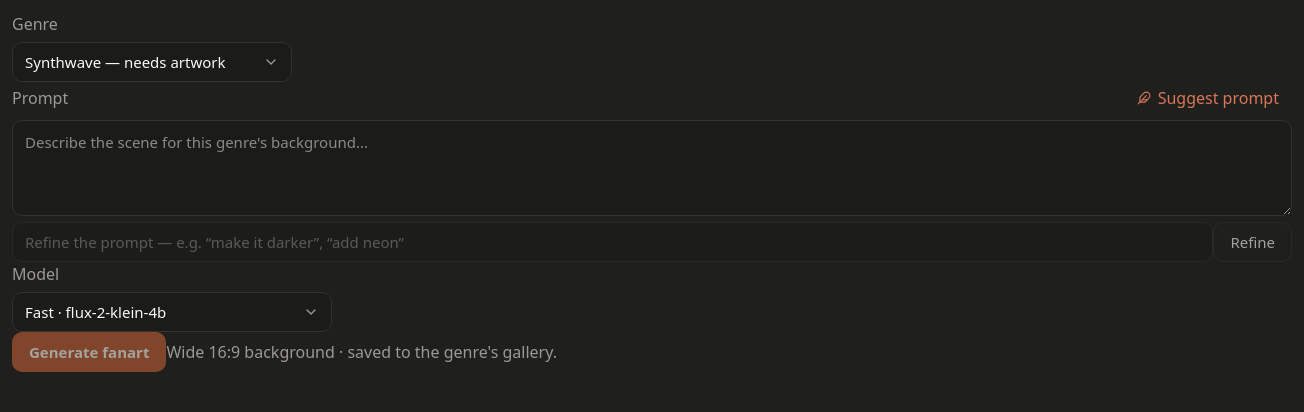
Test: GenreFanartMode generation › when the job fails without a reason, then a generic message stands in
Type "neon skyline" into the text box named "Fanart prompt" at (652, 168), box [12, 120, 1292, 216]
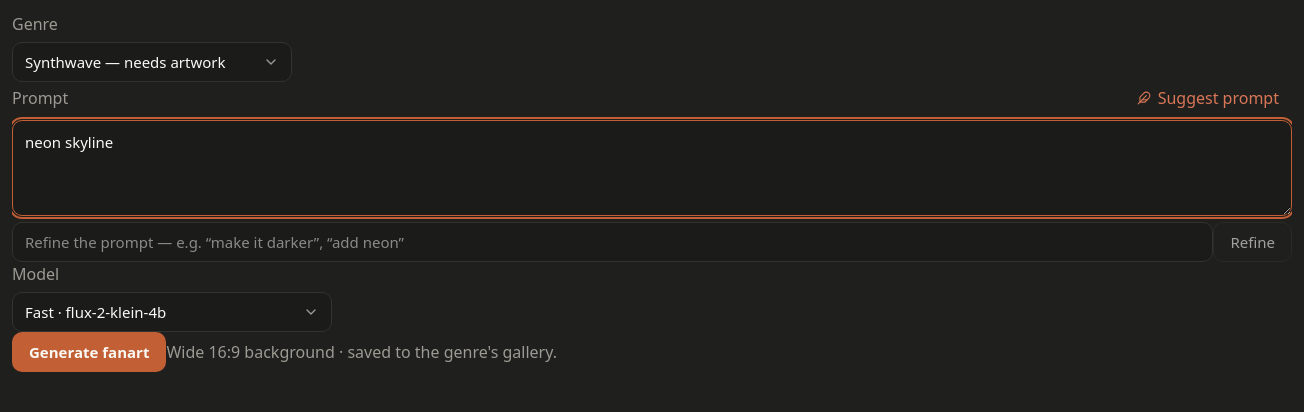
Click the button "Generate fanart" at (89, 352), box [12, 332, 166, 372]
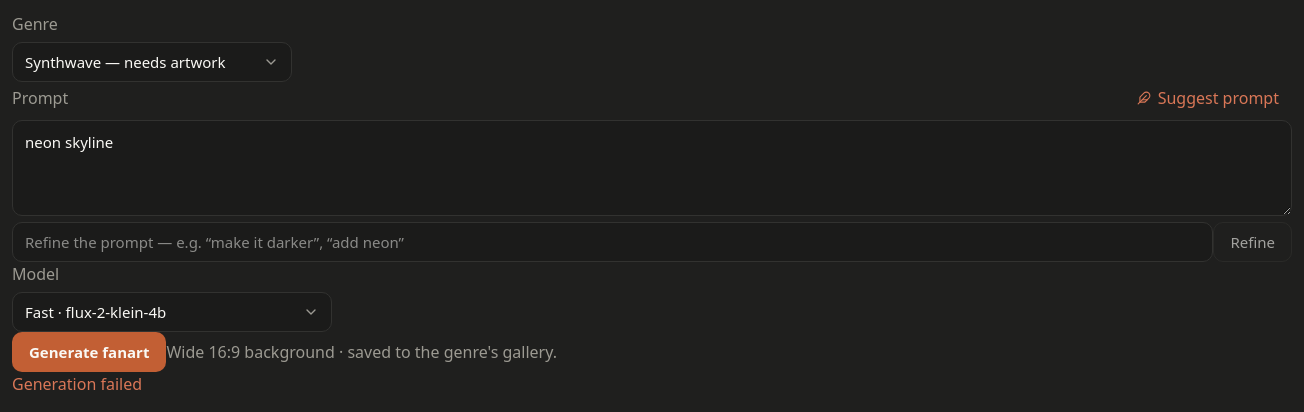
Result: the message reads "Generation failed" at [12, 373, 142, 395]
